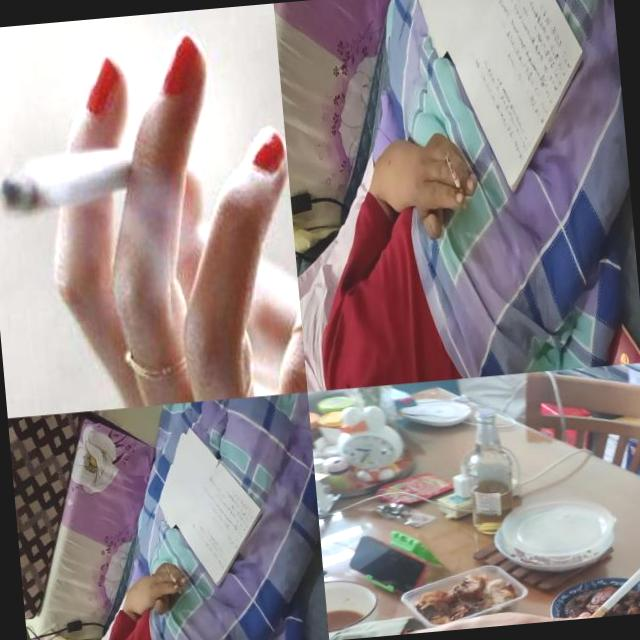smoke: (0, 131, 163, 234), (575, 564, 640, 618), (444, 152, 468, 210), (165, 564, 182, 595)
